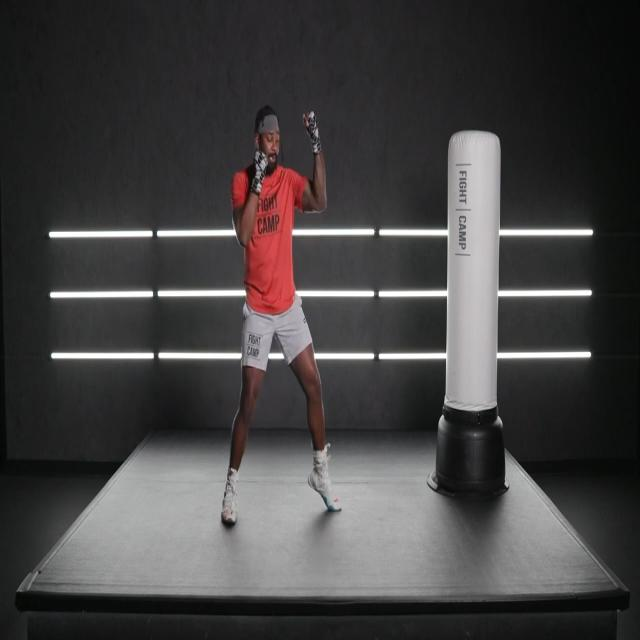Uppercut: (208, 92, 344, 314)
